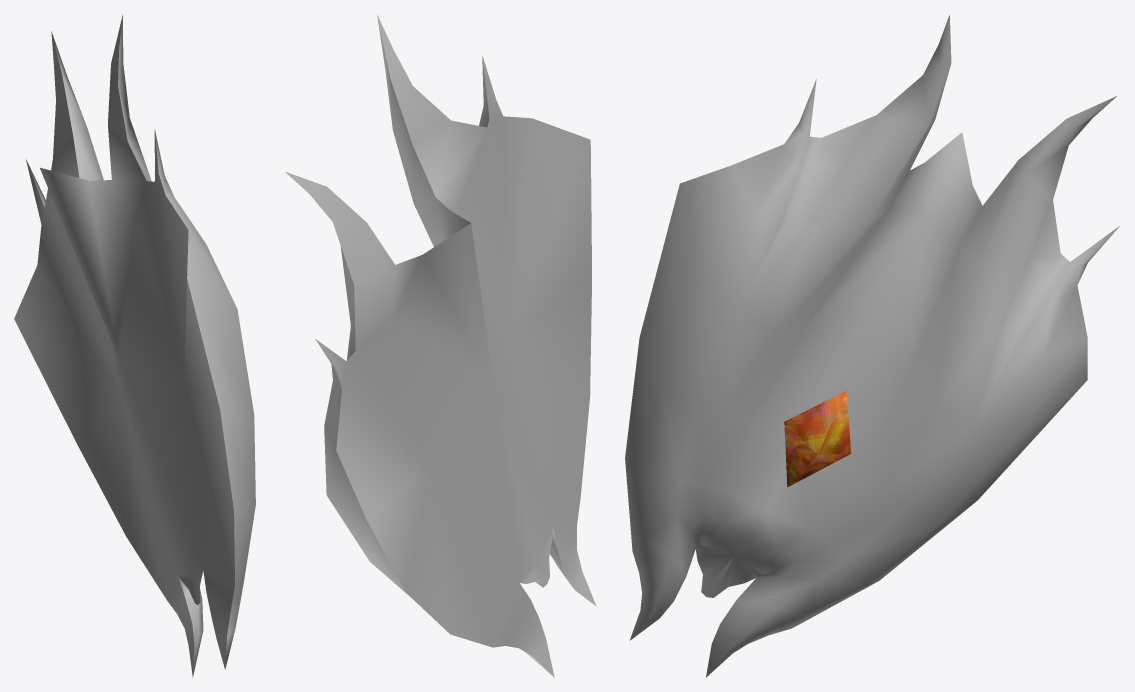
The model's file is huoshezhidun.FBX.
3 renders of one model, left to right at view 1: azimuth 30°, elevation 25°; view 2: azimuth 150°, elevation 25°; view 3: azimuth 270°, elevation 25°, orthographic. The views are drawn at different scales.
Visible parts, largest first — view 1: SMDImport; view 2: SMDImport; view 3: SMDImport.
Part boxes in pixels (bbox=[...]): SMDImport: bbox=[14, 14, 255, 677]; SMDImport: bbox=[285, 14, 596, 677]; SMDImport: bbox=[625, 15, 1120, 677].
Size of the model in its own units: 29.2 by 122 by 79.96.
